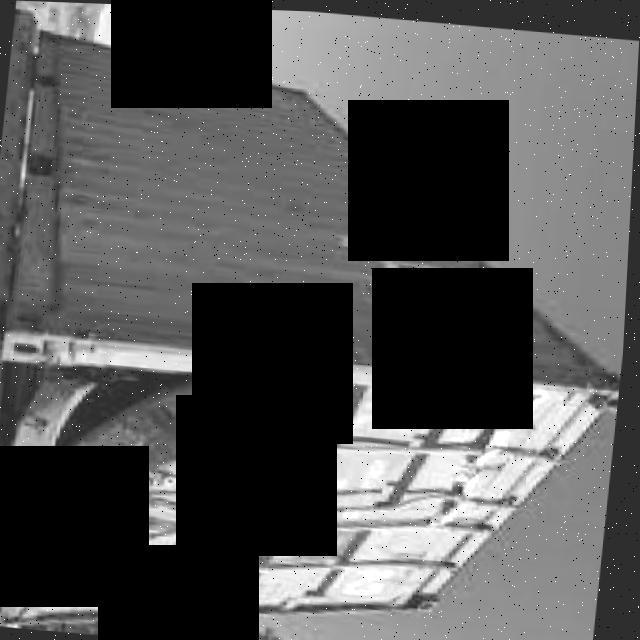hole: (55, 360, 248, 476), (40, 487, 113, 512)
